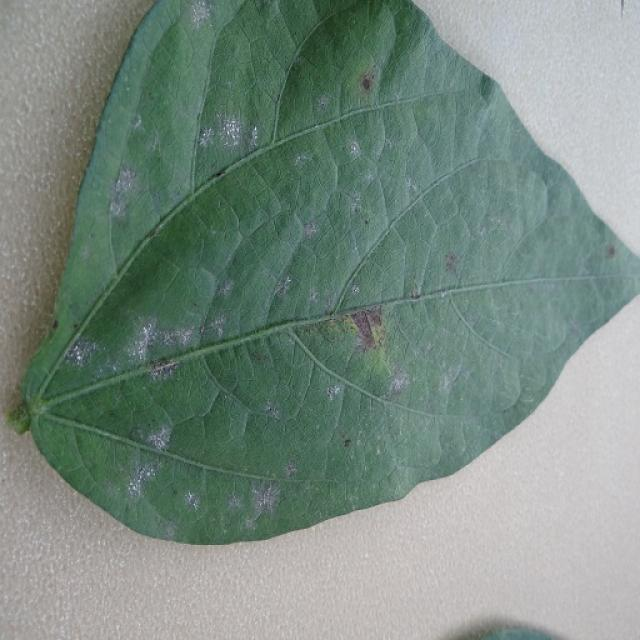Blackgram: (11, 0, 639, 542)
Powdery_Mildew: (67, 298, 251, 528), (137, 435, 285, 536), (64, 308, 174, 387), (120, 421, 180, 515), (124, 313, 190, 373), (127, 315, 199, 368), (199, 113, 254, 155), (111, 163, 140, 219), (127, 454, 163, 497), (249, 480, 280, 517), (65, 337, 97, 366), (439, 364, 464, 394), (145, 424, 172, 451), (218, 117, 244, 142), (169, 327, 196, 349), (190, 1, 213, 25), (205, 311, 227, 335), (388, 373, 409, 395), (110, 195, 128, 219), (137, 323, 153, 350), (274, 277, 293, 299), (118, 166, 136, 187), (217, 279, 235, 299), (263, 400, 281, 419), (198, 126, 214, 146), (129, 427, 147, 444), (326, 383, 342, 401), (283, 460, 299, 478), (184, 490, 199, 509), (127, 477, 142, 496), (227, 494, 243, 511), (295, 152, 311, 168), (244, 516, 260, 532), (70, 348, 85, 365), (349, 192, 362, 211), (164, 522, 179, 538), (304, 221, 318, 237), (348, 140, 361, 157), (142, 465, 155, 480), (131, 114, 143, 130), (407, 177, 418, 194), (249, 125, 259, 143), (308, 290, 320, 304), (317, 95, 329, 108), (384, 138, 393, 149), (440, 289, 449, 299), (352, 285, 360, 294)
